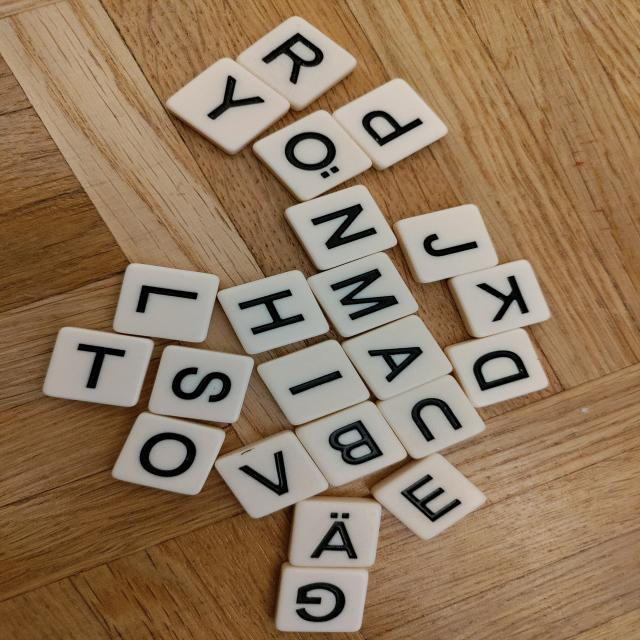a: (339, 312, 455, 402)
a_dot: (286, 497, 382, 568)
b: (292, 399, 411, 489)
d: (443, 327, 551, 409)
e: (367, 450, 489, 543)
g: (274, 563, 369, 633)
h: (215, 268, 332, 356)
i: (254, 337, 373, 427)
j: (390, 202, 501, 285)
k: (446, 258, 554, 341)
l: (111, 262, 222, 344)
m: (306, 251, 421, 340)
n: (281, 183, 400, 273)
o: (108, 410, 229, 498)
o_dot: (247, 108, 376, 204)
p: (330, 76, 452, 173)
r: (233, 13, 363, 113)
s: (146, 344, 256, 425)
t: (41, 324, 157, 409)
u: (375, 374, 488, 461)
v: (212, 428, 332, 521)
y: (161, 55, 294, 157)
